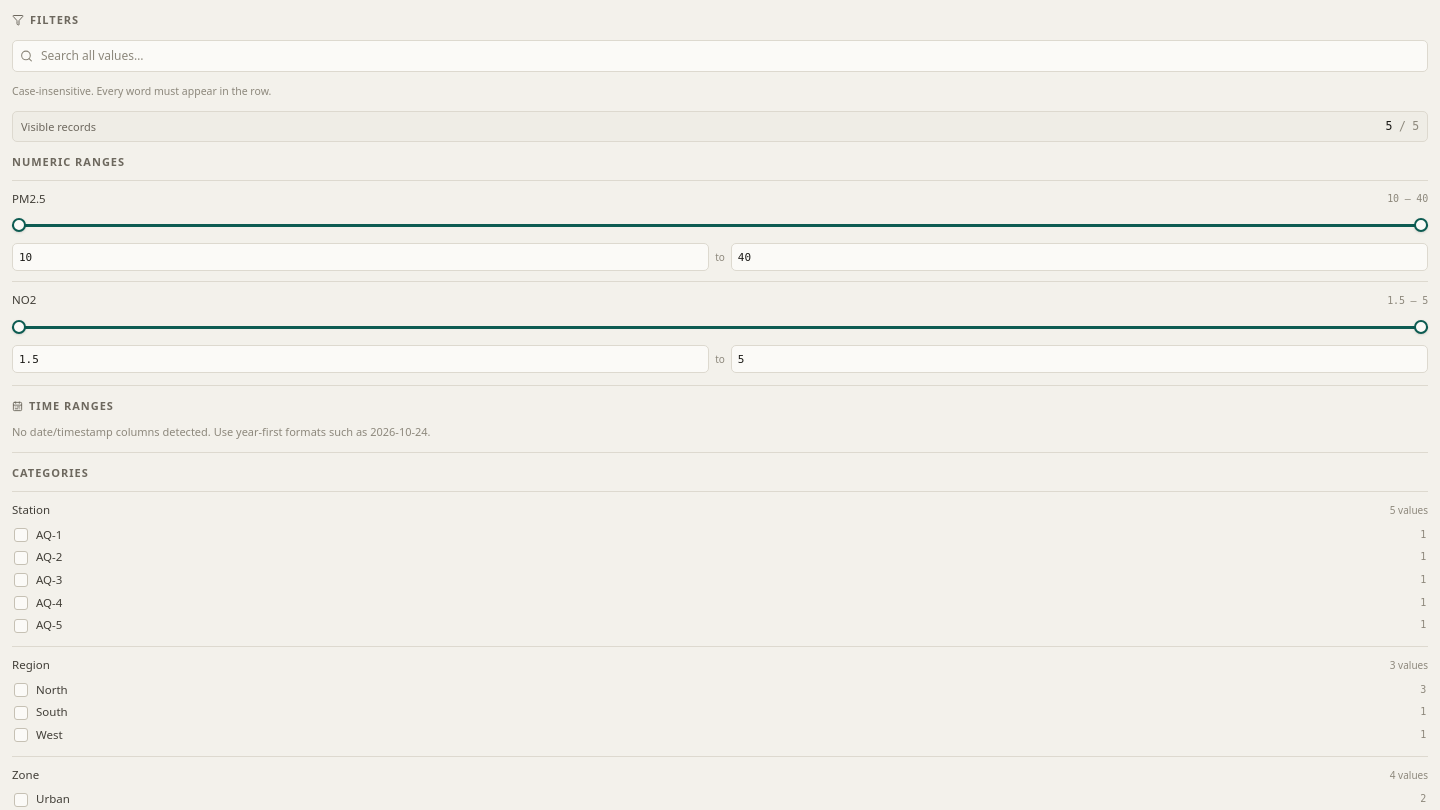
Test: FilterPanel › filters by free-text search
The image size is (1440, 810).
Type "north" into the field named "Search all dataset values". click: (720, 56)
box: left=12, top=40, right=1428, bottom=72
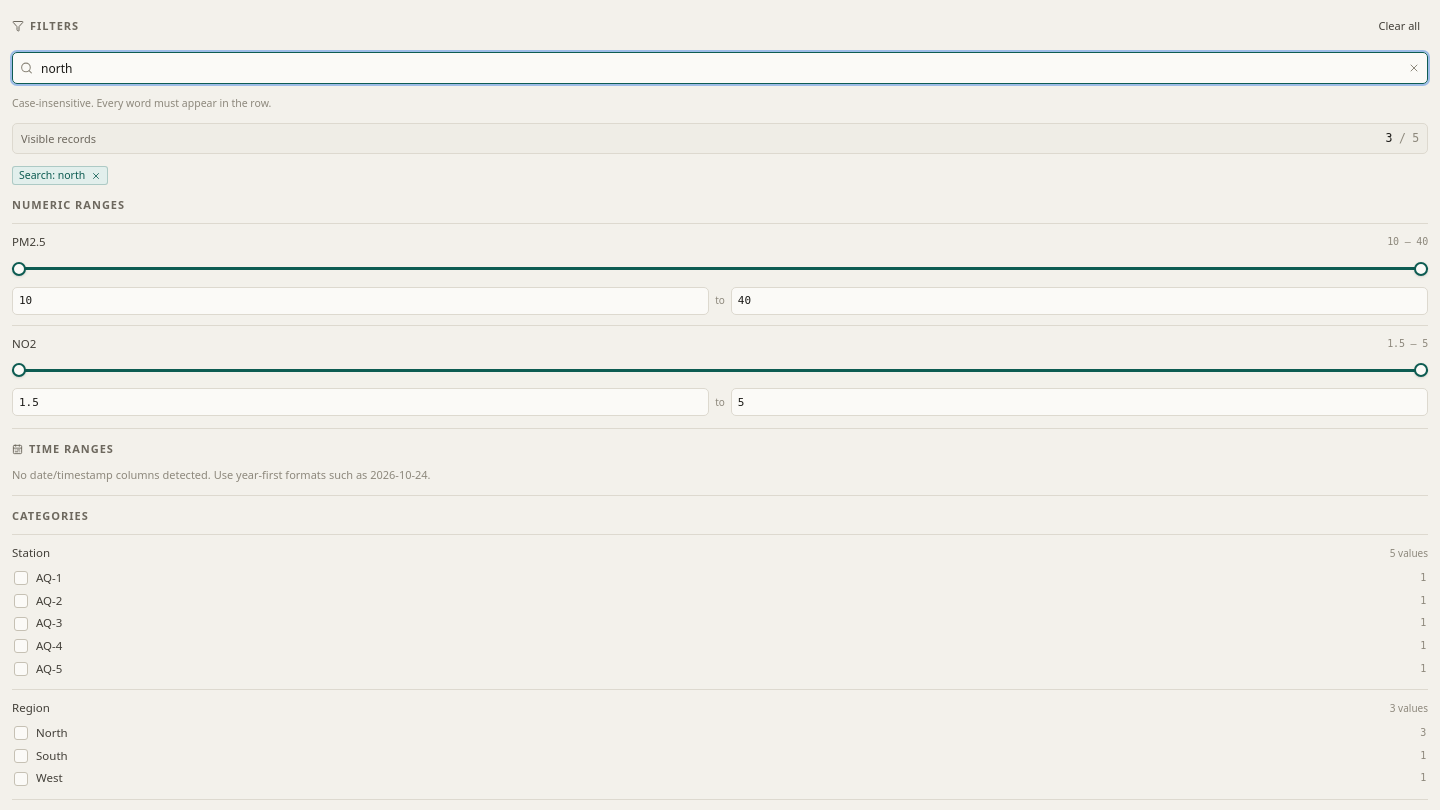
Expected: the text "Search: north" is shown, left=12, top=166, right=108, bottom=185
Expected: the button "Clear all" is shown, left=1371, top=12, right=1428, bottom=40
